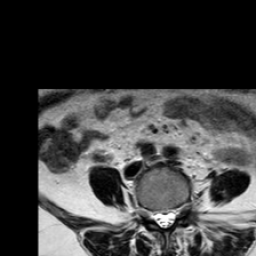CCS_normal: (161, 202, 169, 235)
LFS_normal: (177, 195, 185, 223)
LLS_normal: (169, 199, 177, 231)
RFS_normal: (143, 199, 152, 228)
RLS_normal: (152, 201, 161, 234)
